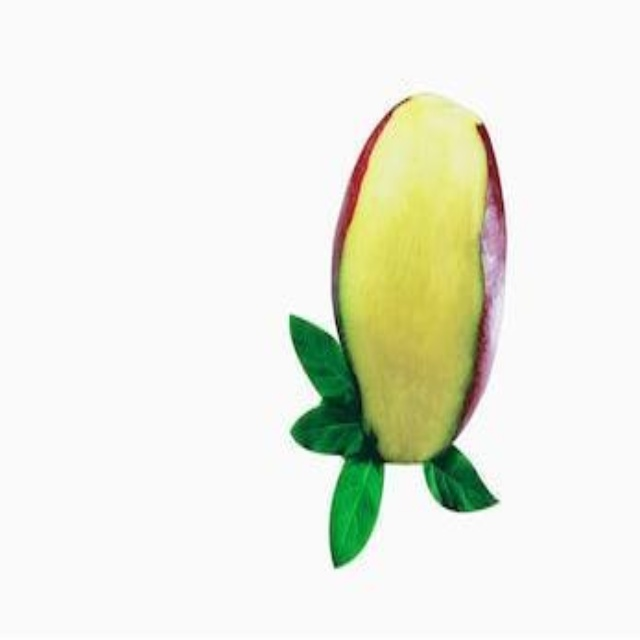mango: (283, 83, 515, 568)
